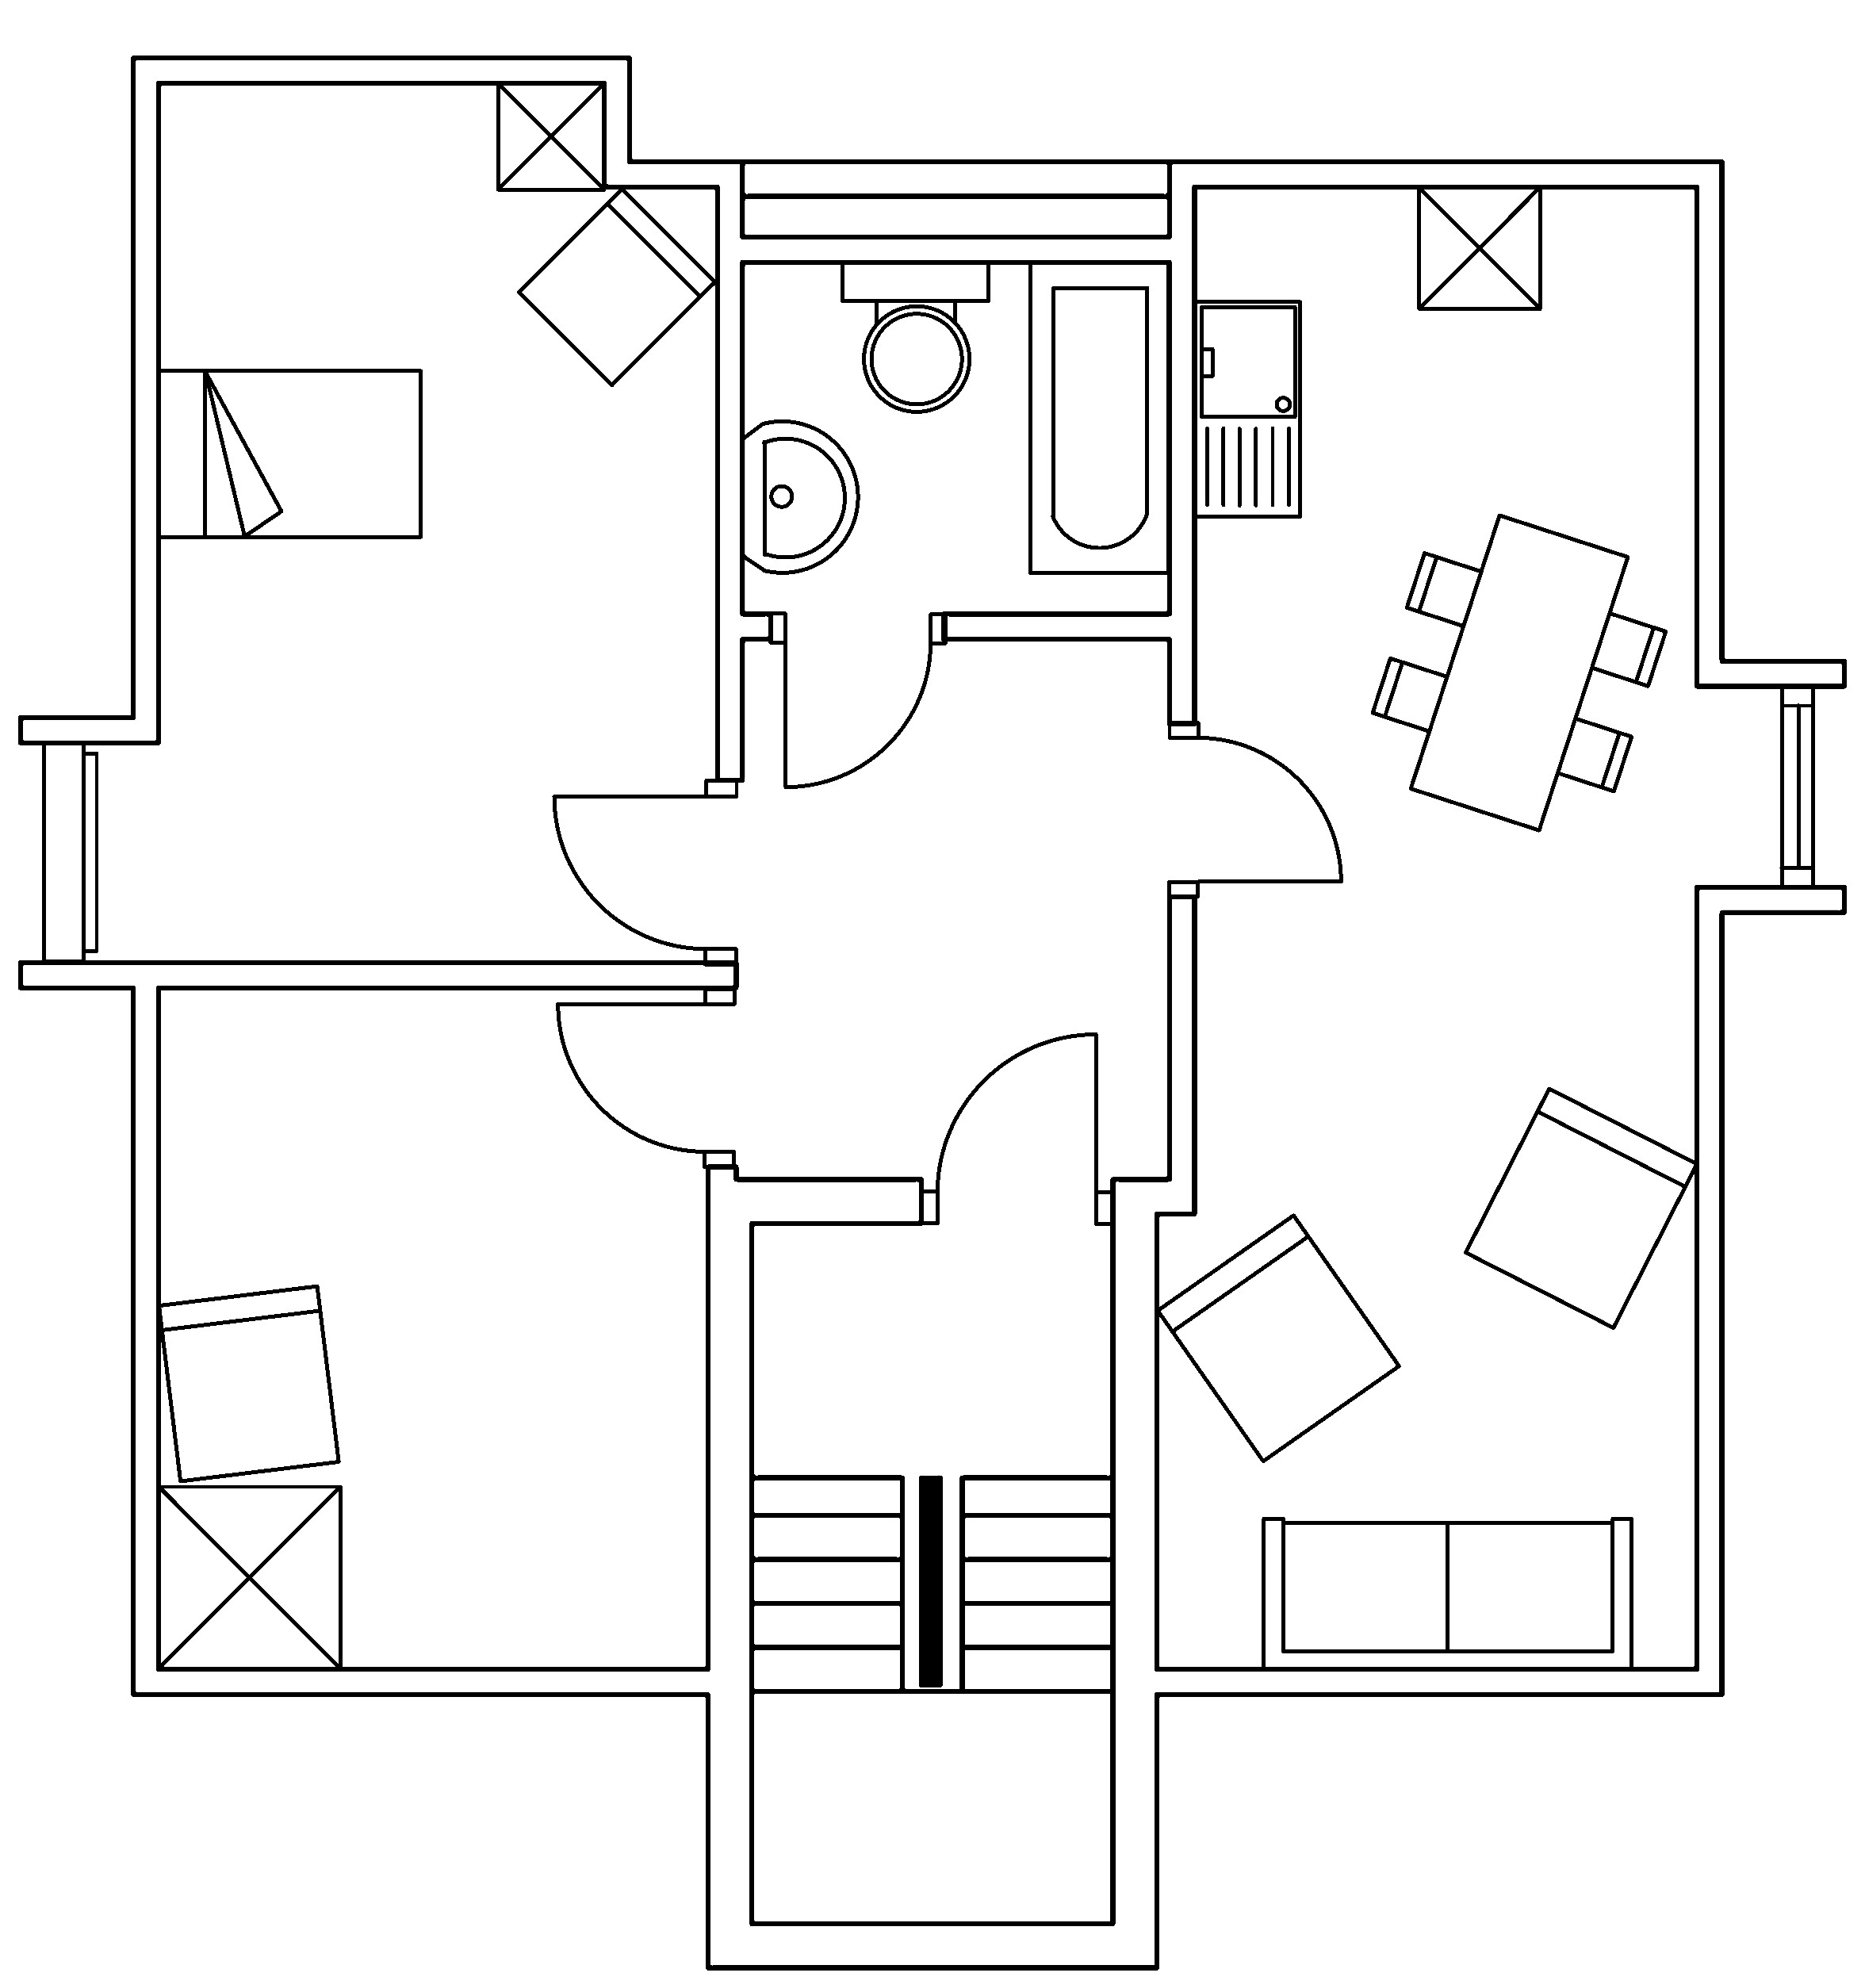bed: (154, 366, 424, 540)
coffee_table: (154, 1481, 342, 1671), (1416, 182, 1542, 310), (494, 79, 606, 191)
dining_table: (1369, 512, 1669, 833)
large_sink: (840, 258, 990, 412)
large_sofa: (1260, 1515, 1634, 1672)
sink: (1192, 298, 1302, 519)
small_sink: (740, 419, 859, 573)
small_sofa: (1153, 1211, 1401, 1464), (1462, 1085, 1698, 1331), (515, 186, 717, 387), (156, 1282, 342, 1483)
tub: (1027, 258, 1171, 575)
